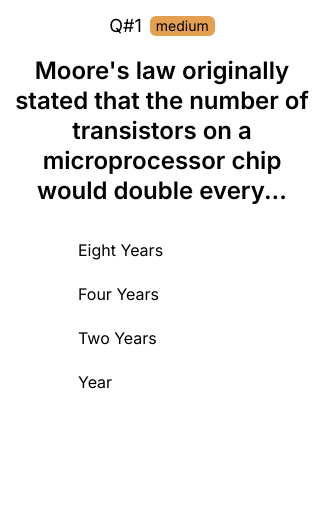
Test case: Quiz › renders next button on answer
The image size is (326, 524).
Check: the list is shown, box top-left (62, 232), bottom-right (262, 400)
Click the button "Eight Years". click: {"x": 162, "y": 250}
box: top-left (62, 232), bottom-right (262, 268)
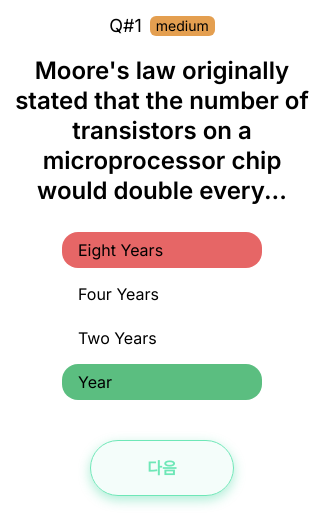
Check: the button "다음" is shown, box top-left (90, 440), bottom-right (234, 496)
